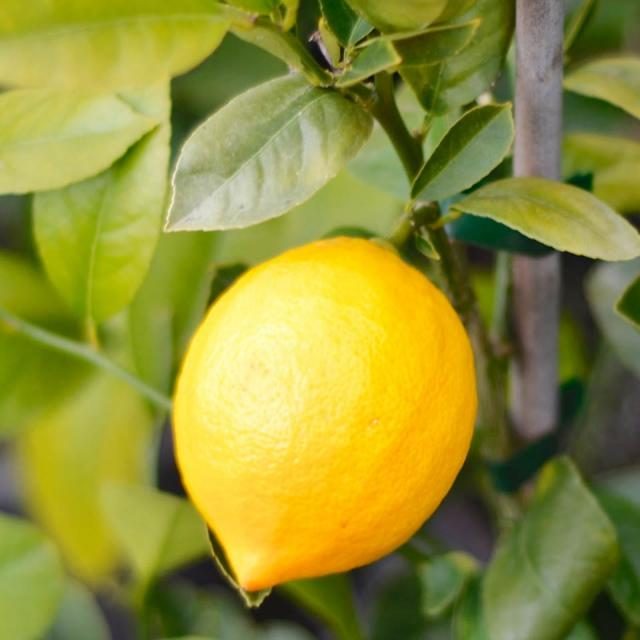lemon: (178, 239, 480, 596)
